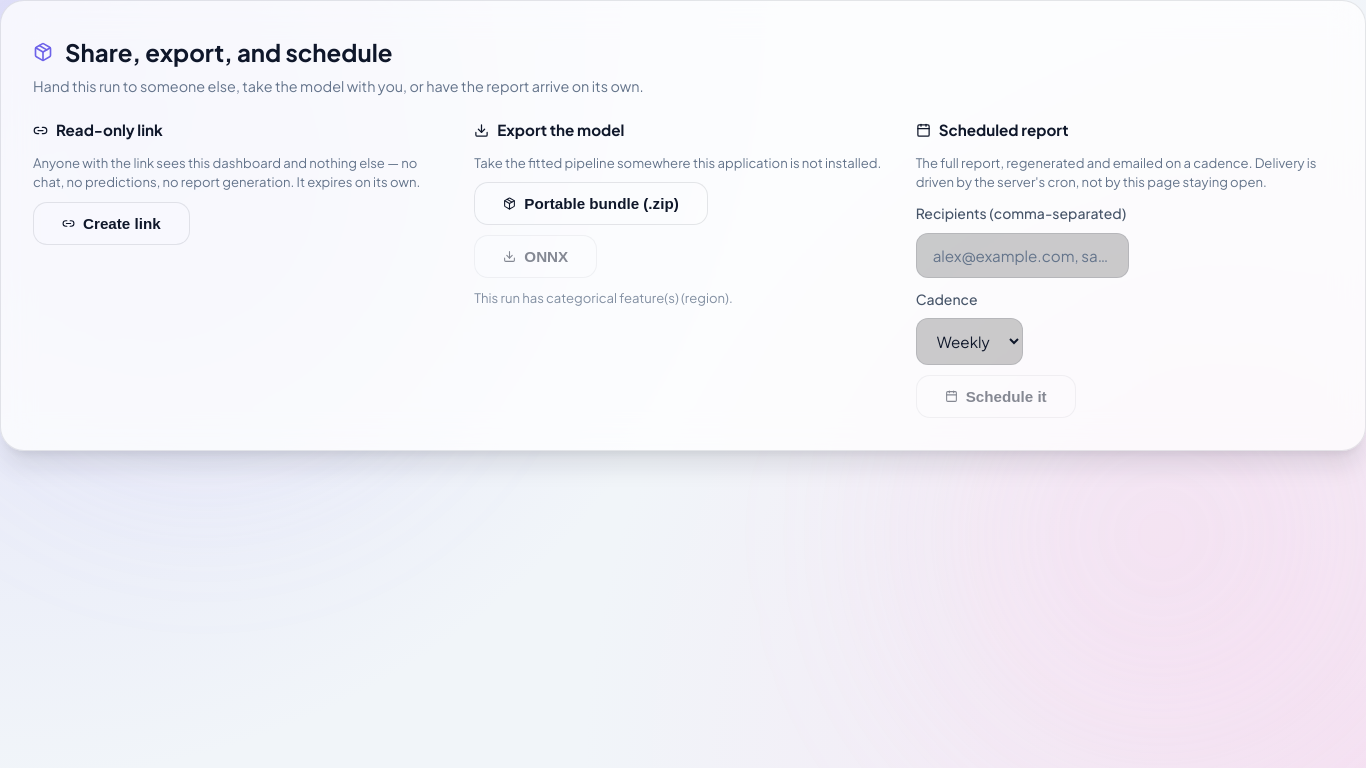
Test: share links › reports a server that has sharing switched off rather than failing silently
Click the button "Create link".
click(111, 224)  # box left=33, top=202, right=190, bottom=245
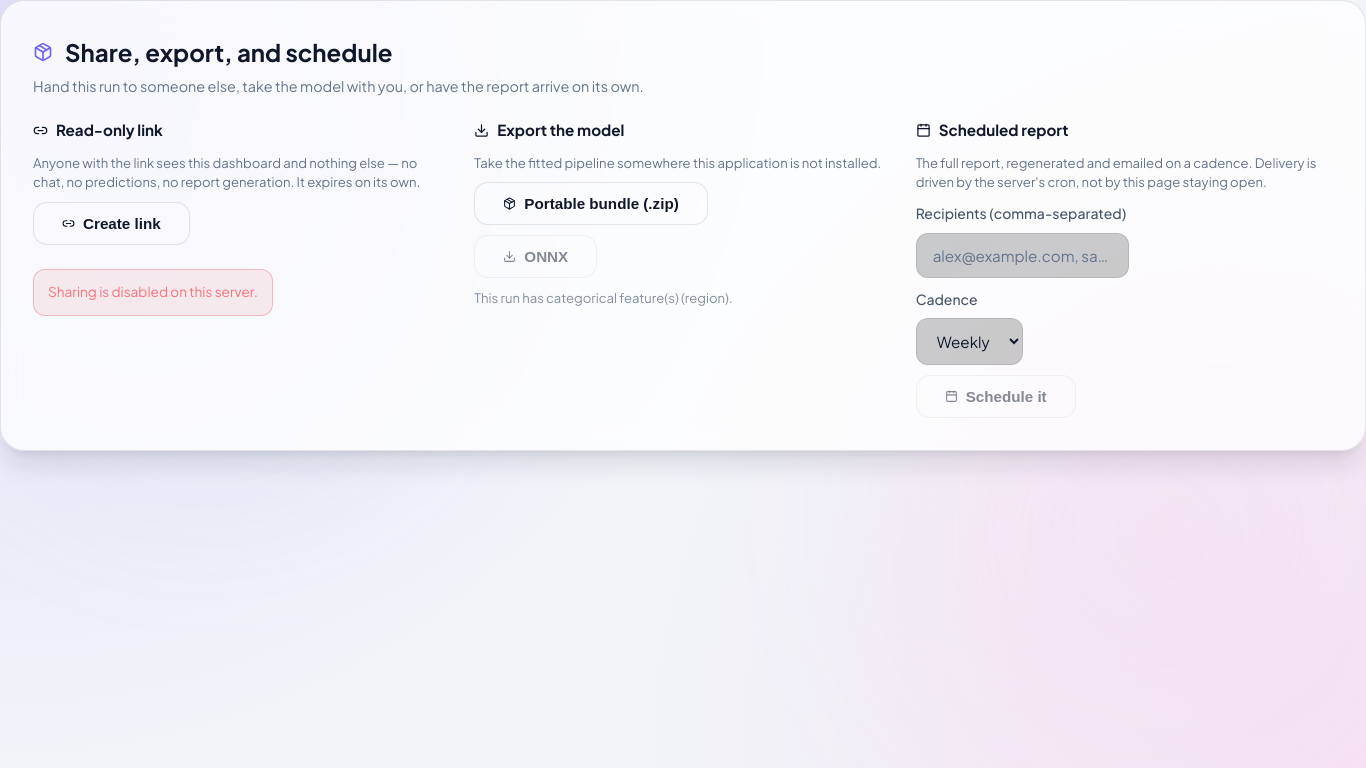
Expected: the message shows "Sharing is disabled", left=48, top=283, right=258, bottom=300
